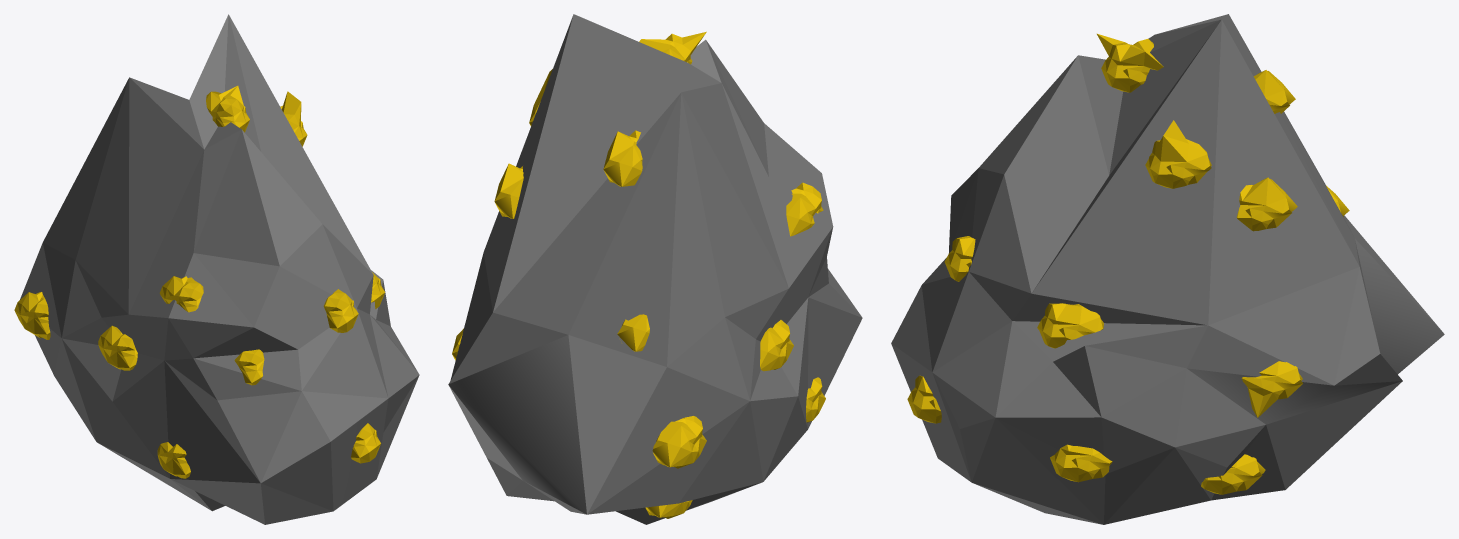
The model's file is sulfur_ore.fbx.
3 renders of one model, left to right at view 1: azimuth 30°, elevation 25°; view 2: azimuth 150°, elevation 25°; view 3: azimuth 270°, elevation 25°, orthographic. The views are drawn at different scales.
Parts seen in each view (by area): view 1: sulfur_ore; view 2: sulfur_ore; view 3: sulfur_ore.
Boxes of the visible parts, <box> form: sulfur_ore: <box>14,14,419,524</box>; sulfur_ore: <box>448,14,862,524</box>; sulfur_ore: <box>891,14,1444,524</box>.
Bounding box in the file's own units: 55.68 × 87.66 × 88.21.
